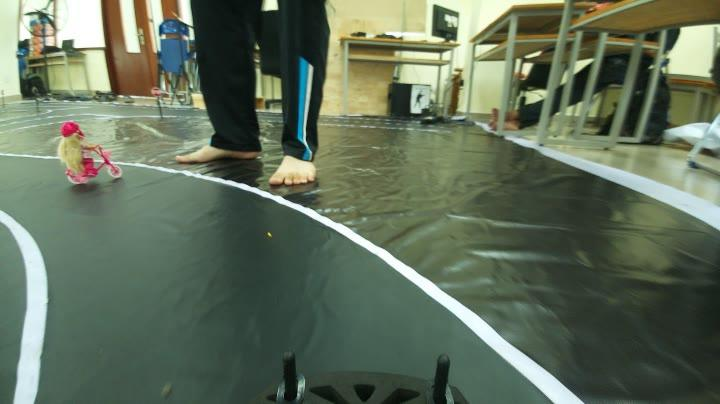pedestrian: (52, 123, 136, 186)
